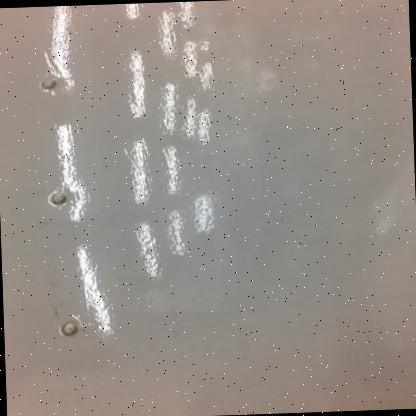Nocrack: (6, 11, 415, 415)
